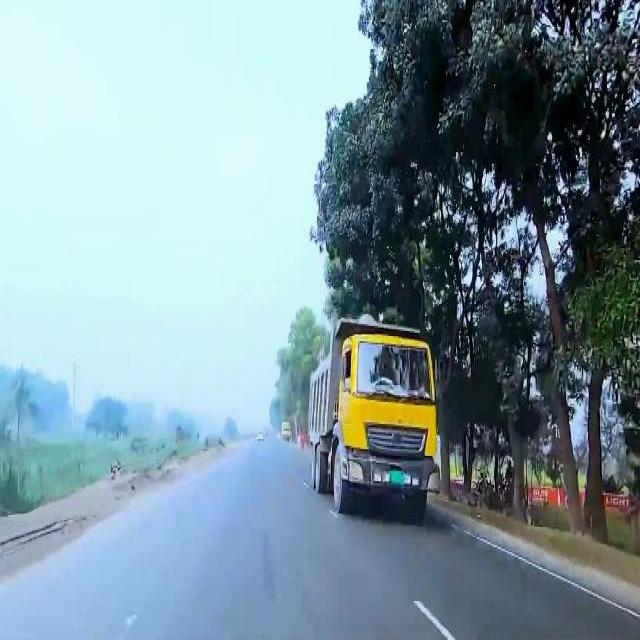TRUCK: (316, 322, 440, 524)
